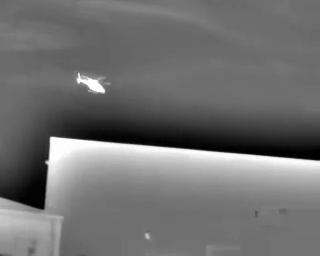HELICOPTER: (73, 67, 118, 102)
